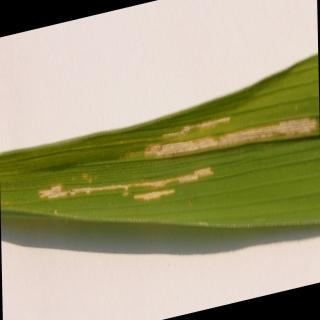Hawar-Daun: (144, 112, 318, 163), (38, 170, 212, 207)
